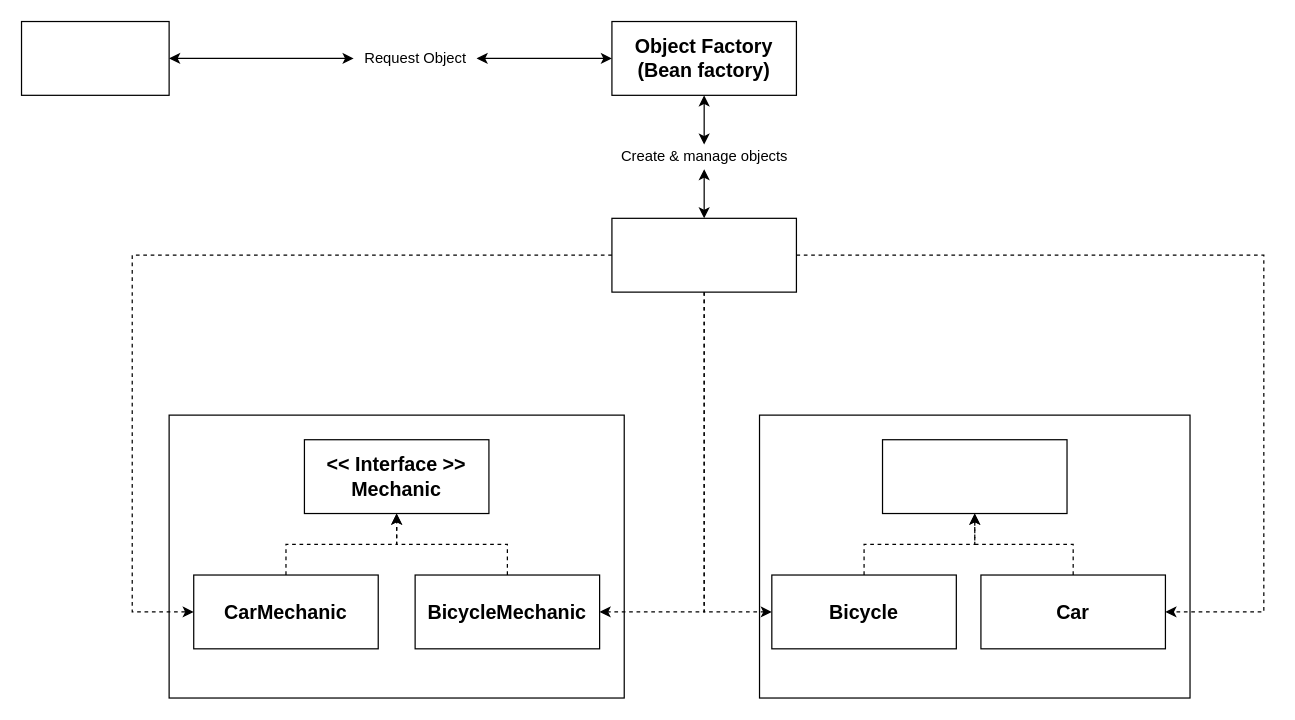
Some shapes in this 1295 by 720 pixel diagram are drawn without their labels. The centre of each missing label's shape, as x and y in pixels:
"<< Interface >> Vehicle" belongs at [974,476].
"App" belongs at [94,57].
"Configuration file" belongs at [703,254].
